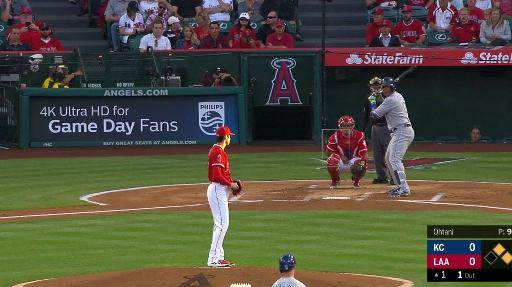pitcher: (207, 127, 245, 269)
